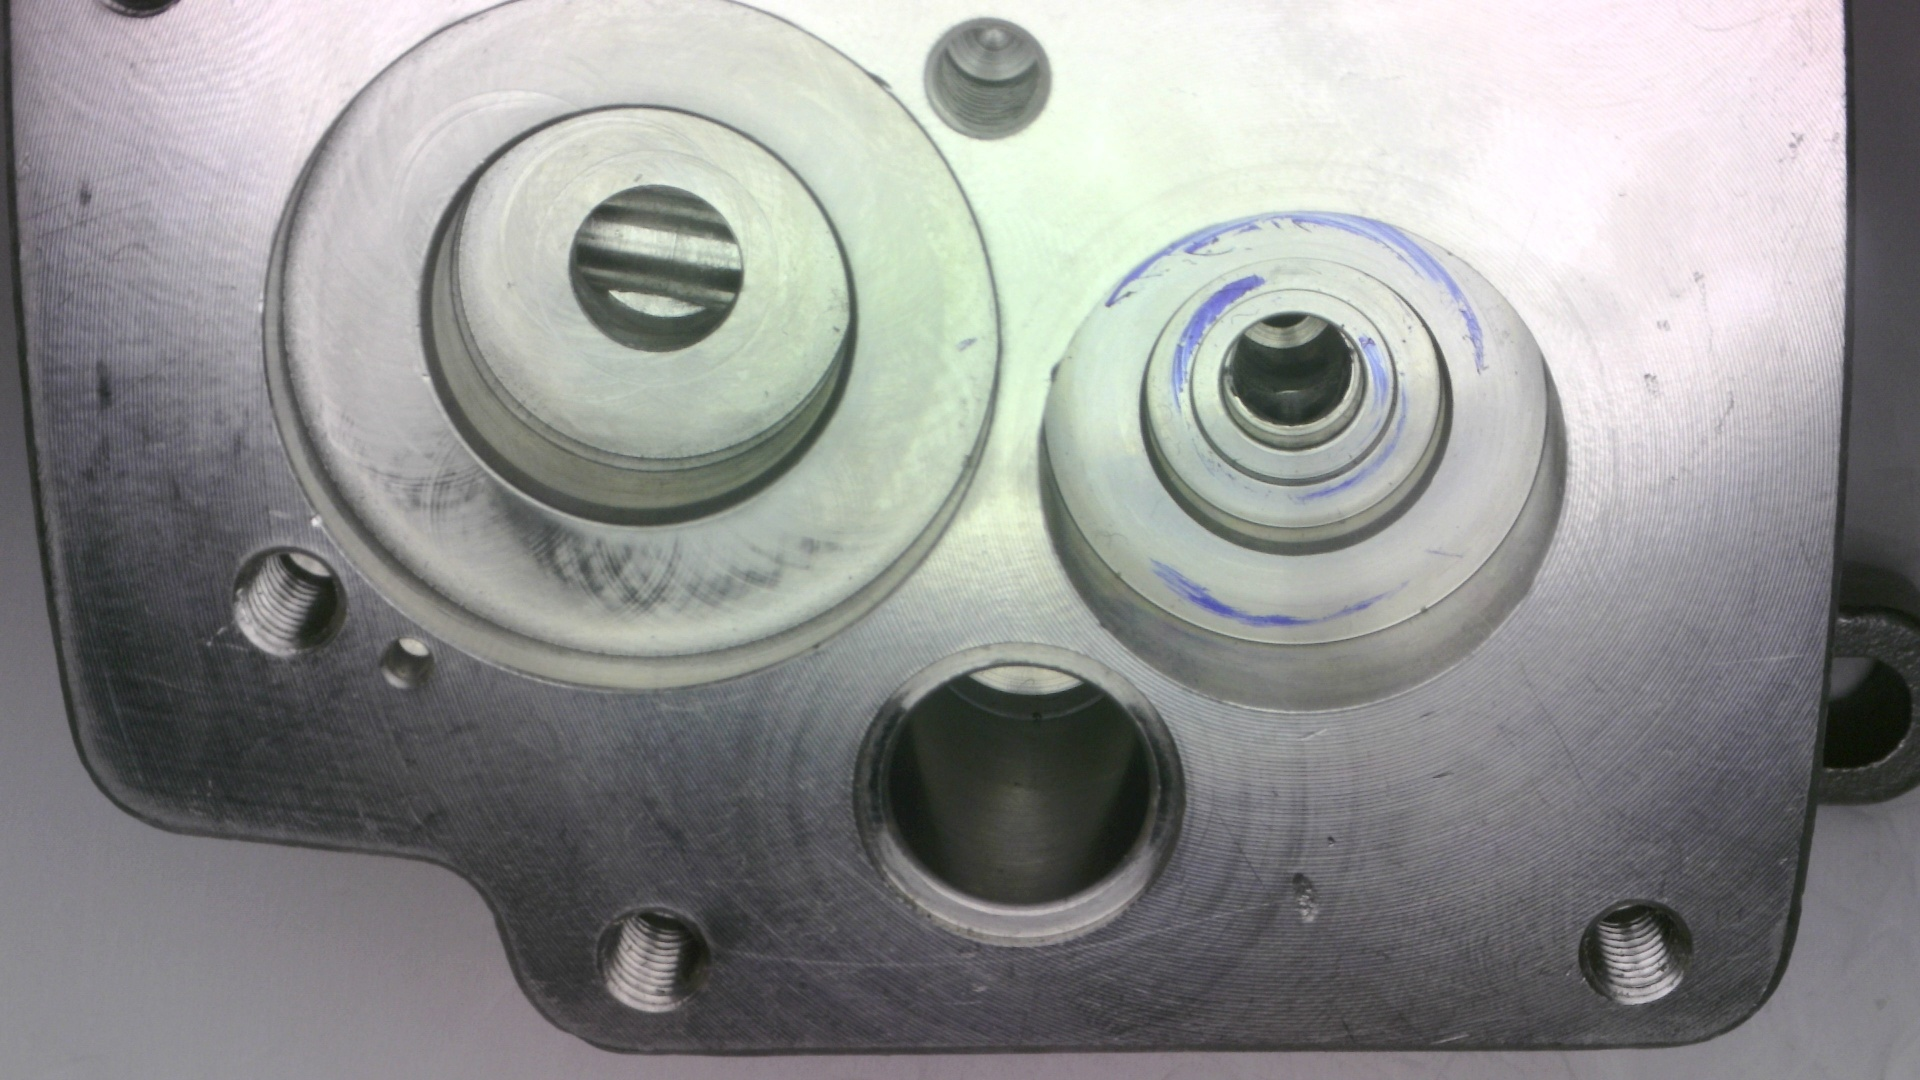chamfer_absence: (1183, 649, 1439, 723)
chamfer_presence: (1062, 990, 1470, 1080)
